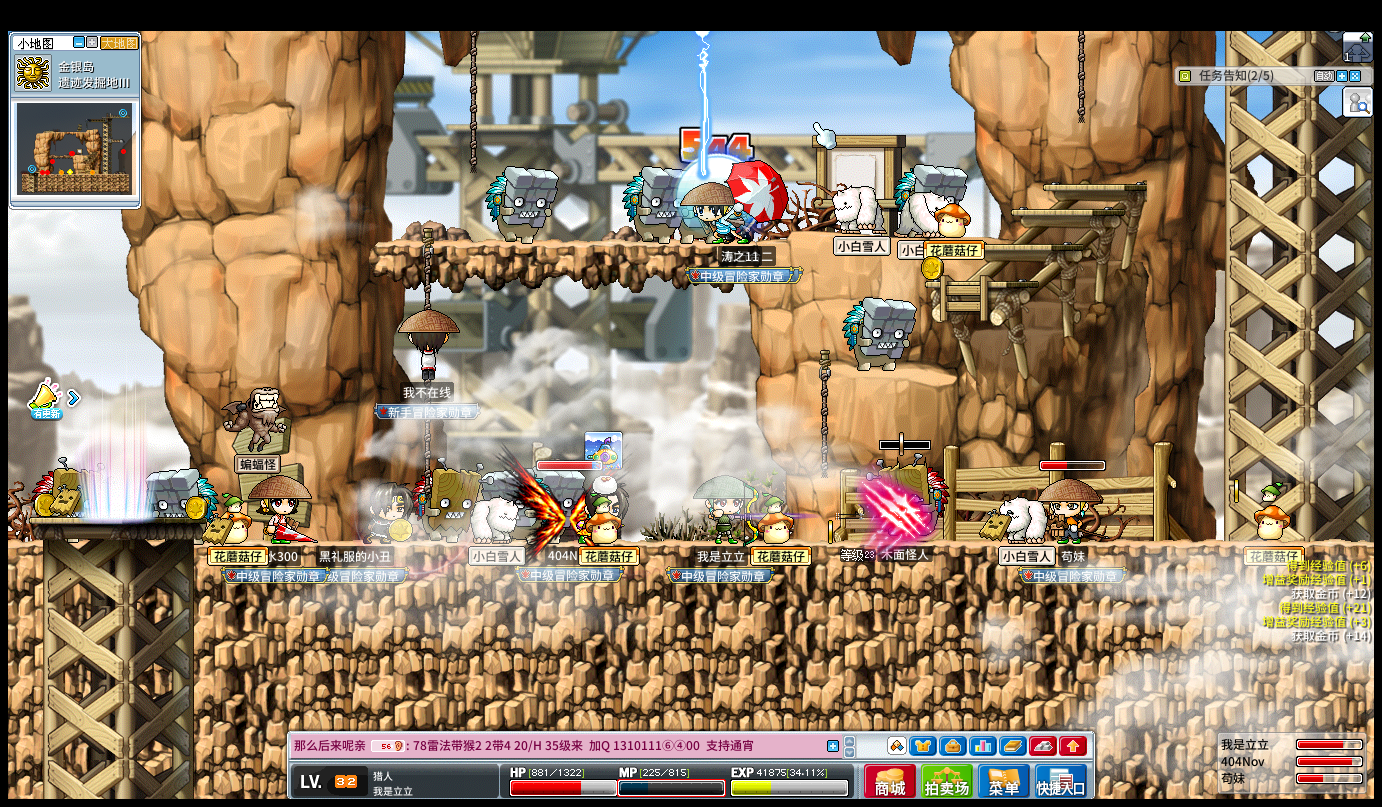floor: (372, 238, 747, 250), (853, 365, 958, 385), (821, 229, 1004, 239), (31, 515, 202, 524), (836, 232, 1005, 240), (923, 279, 1035, 291), (922, 279, 1036, 287), (976, 242, 1081, 250), (1043, 184, 1145, 192), (1007, 207, 1120, 214)
monster: (871, 458, 947, 539), (841, 296, 916, 372), (485, 165, 558, 243), (412, 463, 481, 543), (621, 165, 686, 242), (35, 460, 88, 516), (894, 164, 971, 199), (145, 469, 197, 515)
rope: (817, 352, 829, 480), (1075, 30, 1088, 120), (469, 30, 477, 173), (419, 227, 432, 309), (1075, 30, 1084, 121)
